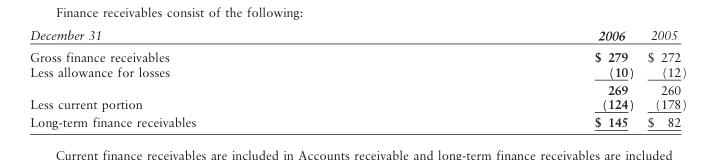table: (29, 29, 687, 129)
table column: (29, 29, 394, 129), (394, 29, 640, 129), (640, 29, 687, 129)
table column header: (29, 29, 687, 47)
table row: (29, 29, 687, 47), (29, 47, 687, 65), (29, 65, 687, 81), (29, 81, 687, 97), (29, 97, 687, 113), (29, 113, 687, 129)
